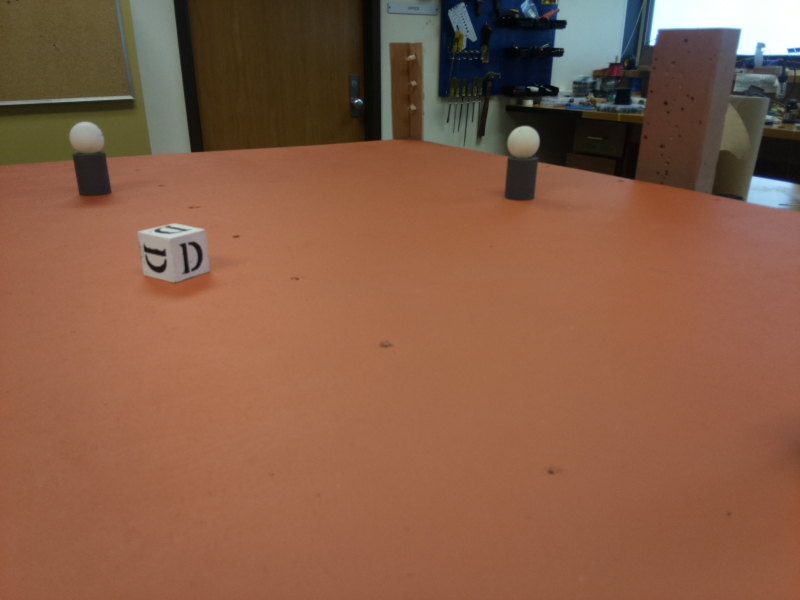blockD: (143, 221, 214, 283)
corner: (391, 44, 427, 139)
obstacle: (500, 127, 541, 200), (73, 121, 110, 197)
